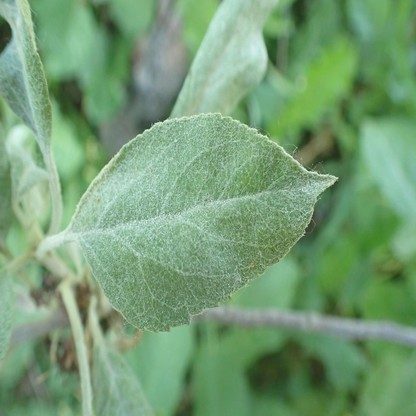powdery_mildew: (69, 114, 338, 331), (169, 0, 277, 119), (1, 1, 51, 149), (92, 343, 153, 416), (6, 124, 48, 215), (0, 256, 13, 355)
